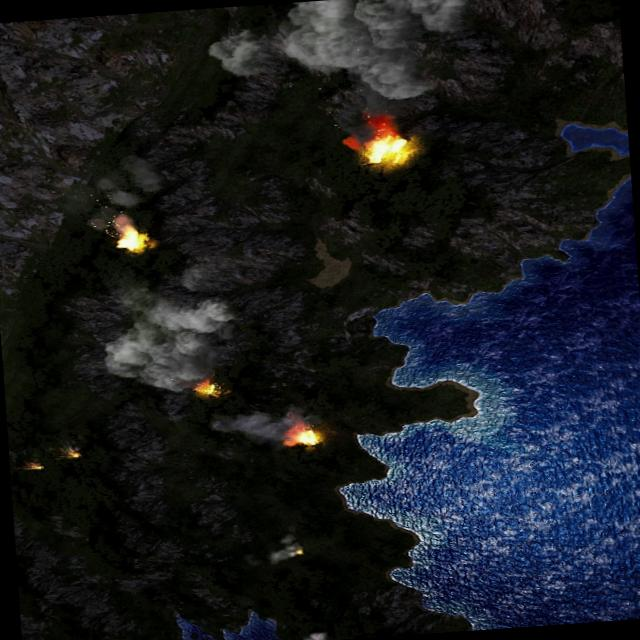fire: (362, 132, 412, 164), (112, 224, 148, 251), (290, 424, 321, 445), (194, 378, 222, 398), (22, 462, 46, 471), (66, 447, 82, 456), (294, 546, 304, 553)
smoke: (207, 0, 483, 155), (95, 264, 238, 396), (211, 403, 312, 448), (89, 150, 170, 205), (239, 536, 303, 568), (297, 629, 326, 640)
